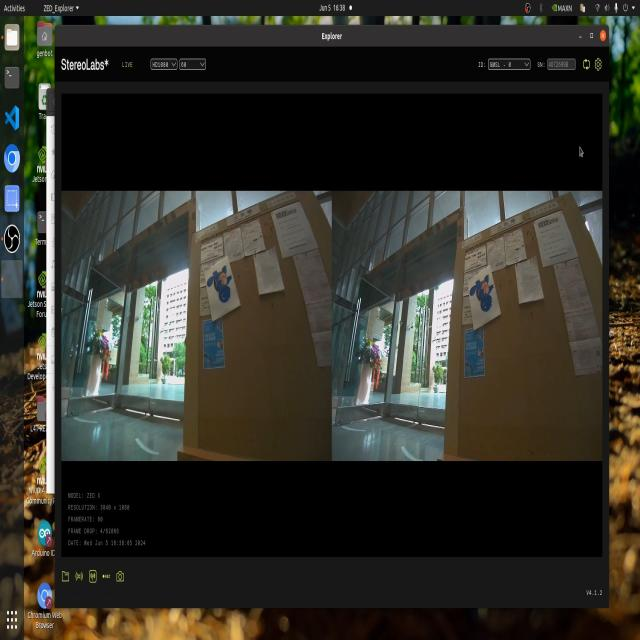blue: (206, 263, 246, 311), (467, 277, 502, 324)
